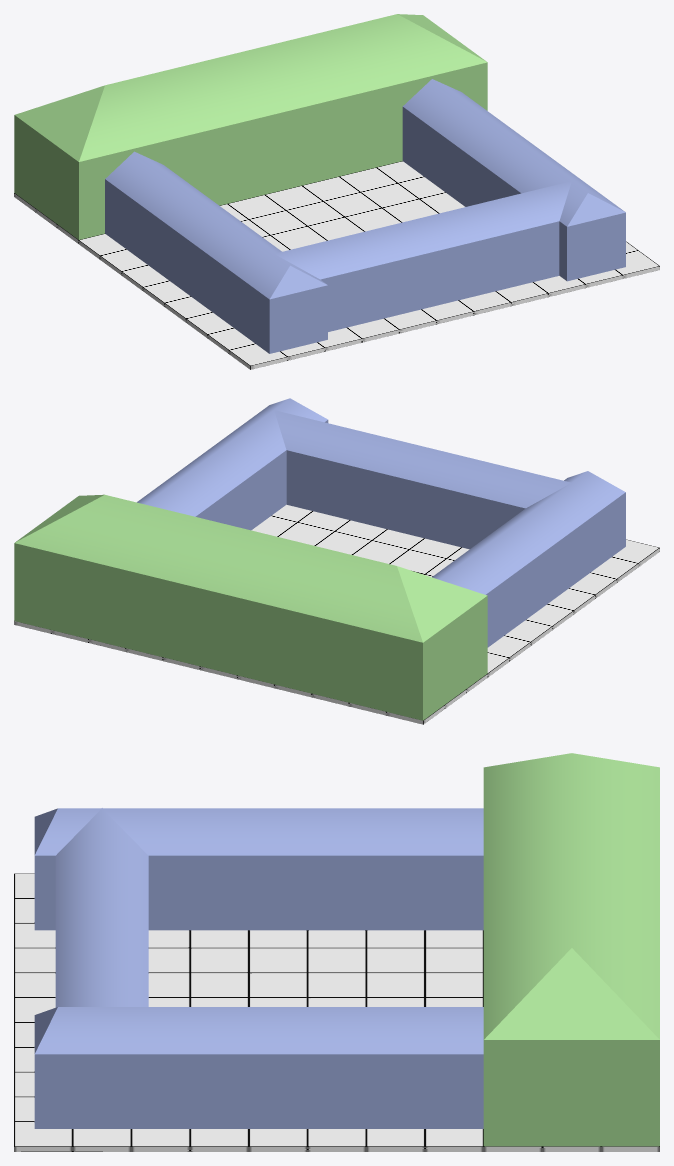
Rendered from XG_Tavern.glb.
The picture shows the model from 3 angles, top to bottom: view 1: azimuth 30°, elevation 25°; view 2: azimuth 150°, elevation 25°; view 3: azimuth 270°, elevation 25°; orthographic projection. The views are drawn at different scales.
Parts seen in each view (by area): view 1: building_7m_3m_029, building_7m_3m_028, ground_11_x_11_015; view 2: building_7m_3m_028, building_7m_3m_029, ground_11_x_11_015; view 3: building_7m_3m_029, building_7m_3m_028, ground_11_x_11_015.
Part boxes in pixels (bbox=[...]): building_7m_3m_029: bbox=[105, 79, 625, 353]; building_7m_3m_028: bbox=[14, 14, 487, 239]; ground_11_x_11_015: bbox=[14, 161, 659, 369]; building_7m_3m_028: bbox=[14, 494, 487, 720]; building_7m_3m_029: bbox=[137, 398, 625, 647]; ground_11_x_11_015: bbox=[14, 504, 659, 724]; building_7m_3m_029: bbox=[34, 808, 483, 1128]; building_7m_3m_028: bbox=[483, 753, 659, 1146]; ground_11_x_11_015: bbox=[14, 873, 659, 1151].
Size of the model in its own units: 11 by 3.1 by 11.
Materials: 3 (1 with a texture image).
